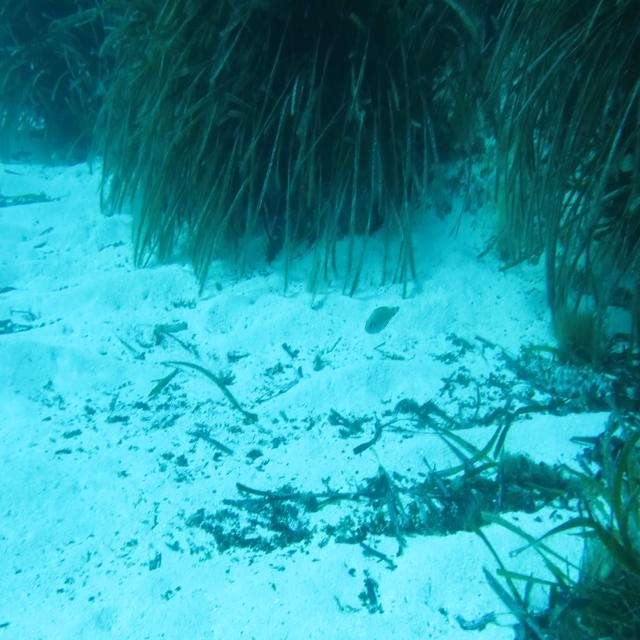BN: (362, 300, 402, 342)
vegetation: (0, 0, 640, 266), (466, 268, 640, 640)
